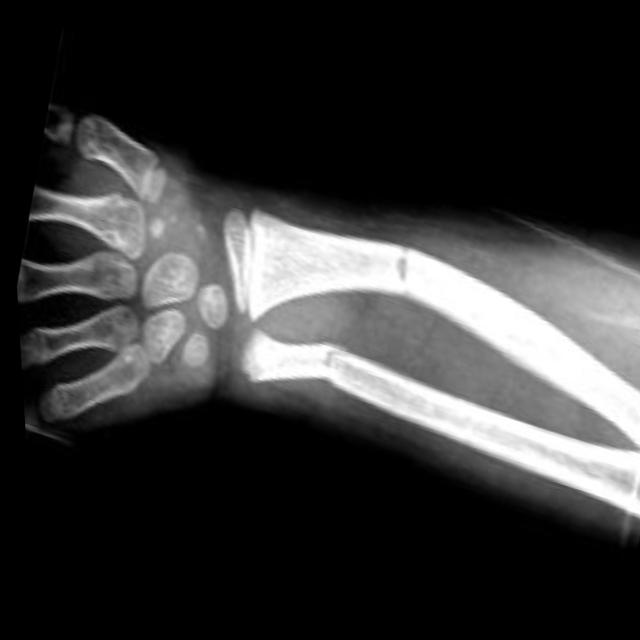fracture: (369, 220, 425, 303), (295, 318, 352, 389)
